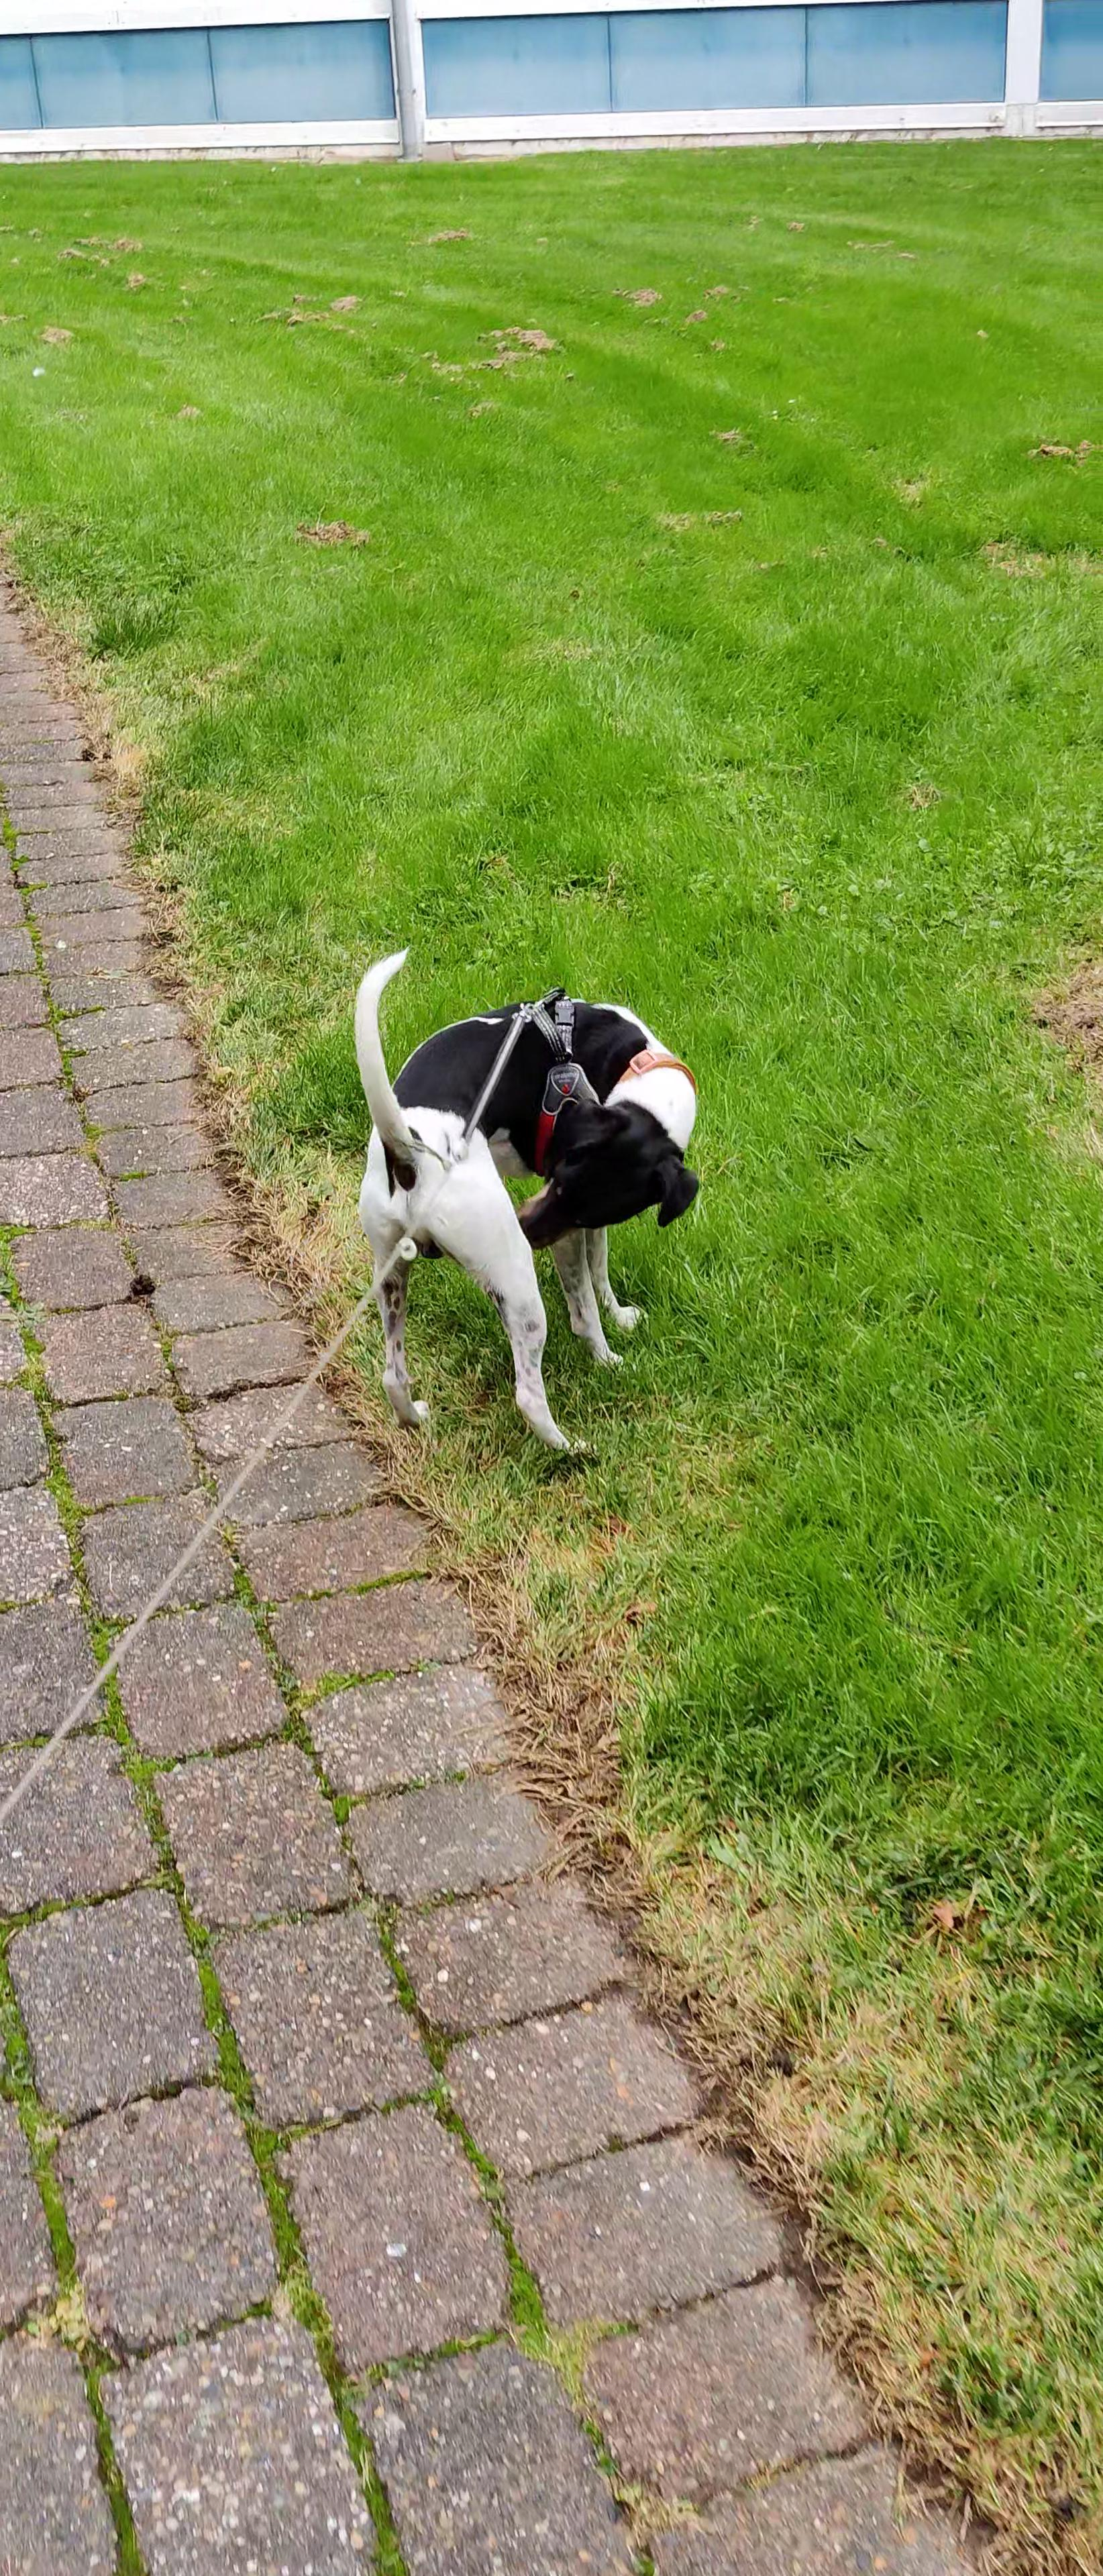Dog: (312, 923, 740, 1465)
